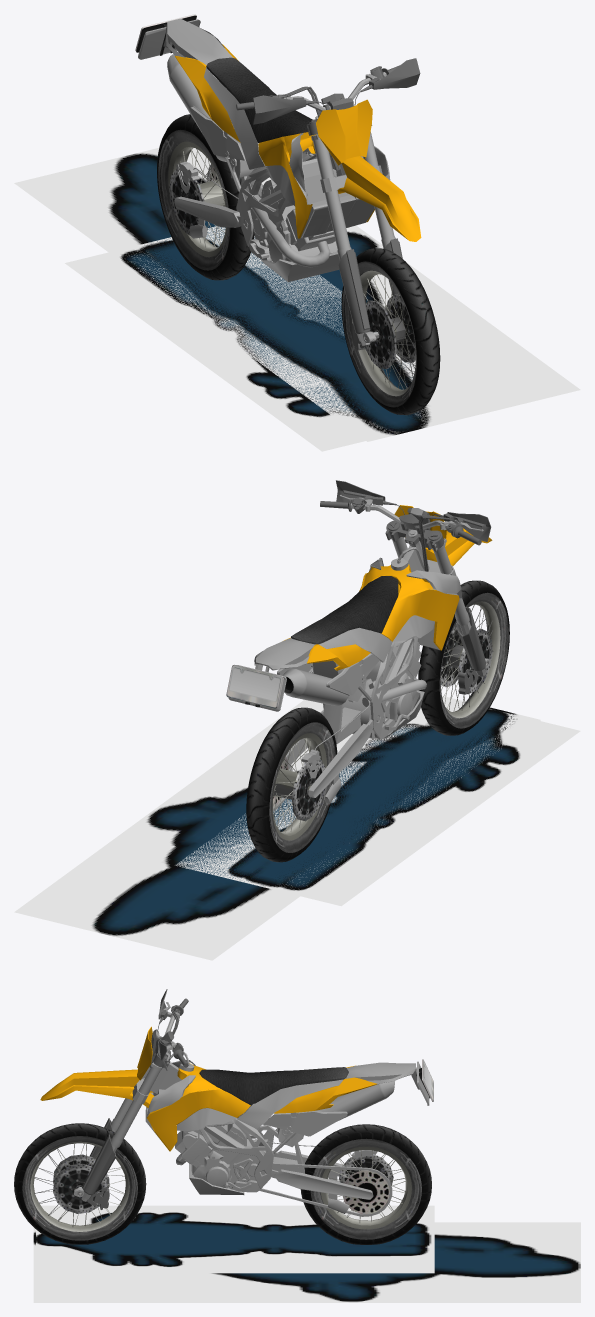
The model's file is bike4_20.fbx.
3 views of the same model, one above another, from view 1: azimuth 30°, elevation 25°; view 2: azimuth 150°, elevation 25°; view 3: azimuth 270°, elevation 25° (orthographic). The views are drawn at different scales.
Visible parts, largest first — view 1: Shadow_SunSet, Shadow_DayLight, Reflection_AI, Tyre_F, SteeringBody_AI, SteeringReflection, Tyre_B, Rim_F, Body_AI, SteeringGold, Rim_B, Matt_AI; view 2: Shadow_SunSet, Shadow_DayLight, Reflection_AI, Tyre_B, SteeringReflection, Tyre_F, Body_AI, Matt_AI, Rim_B, Rim_F, SteeringGold, Plate (+1 smaller); view 3: Shadow_SunSet, Shadow_DayLight, Reflection_AI, Tyre_B, Tyre_F, Body_AI, Rim_B, Rim_F, Matt_AI, SteeringReflection, SteeringBody_AI, SteeringGold.
Boxes of the visible parts, x1,y1,x2,y2 form: Shadow_SunSet: (14,148,580,441); Shadow_DayLight: (65,226,498,451); Reflection_AI: (138,18,390,282); Tyre_F: (341,248,440,415); SteeringBody_AI: (316,99,421,241); SteeringReflection: (236,58,420,350); Tyre_B: (157,114,254,280); Rim_F: (352,270,415,396); Body_AI: (175,44,374,238); SteeringGold: (284,72,395,345); Rim_B: (168,141,226,256); Matt_AI: (206,57,312,142); Shadow_SunSet: (14,696,540,960); Shadow_DayLight: (175,697,580,906); Reflection_AI: (228,541,462,810); Tyre_B: (246,707,337,862); SteeringReflection: (320,480,491,694); Tyre_F: (418,580,509,735); Body_AI: (284,564,459,670); Matt_AI: (284,576,398,693); Rim_B: (272,733,326,840); Rim_F: (440,601,500,718); SteeringGold: (339,495,491,676); Plate: (226,664,283,708); Shadow_SunSet: (33,1222,580,1302); Shadow_DayLight: (36,1205,434,1273); Reflection_AI: (145,1051,429,1216); Tyre_B: (300,1124,431,1244); Tyre_F: (14,1123,146,1244); Body_AI: (147,1063,377,1151); Rim_B: (321,1146,411,1229); Rim_F: (30,1141,129,1231); Matt_AI: (199,1067,348,1105); SteeringReflection: (83,989,188,1209); SteeringBody_AI: (40,1026,154,1107); SteeringGold: (74,1002,179,1201).
Bounding box in the file's own units: 118 × 127 × 291.
